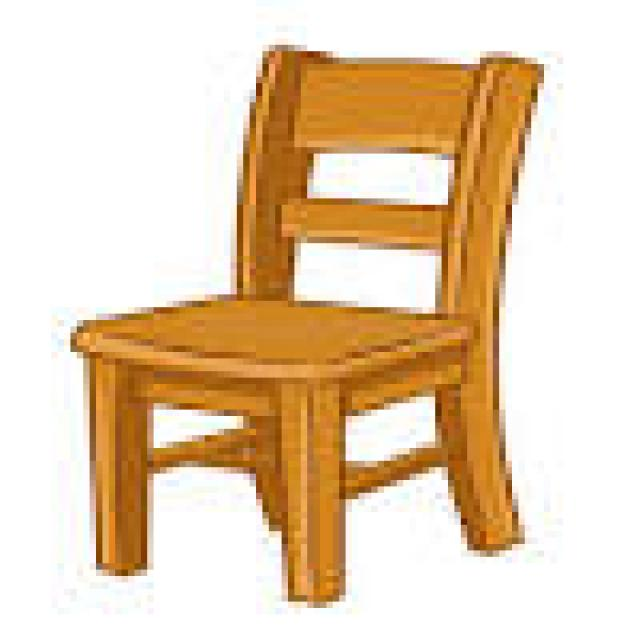chair: (56, 18, 565, 640)
